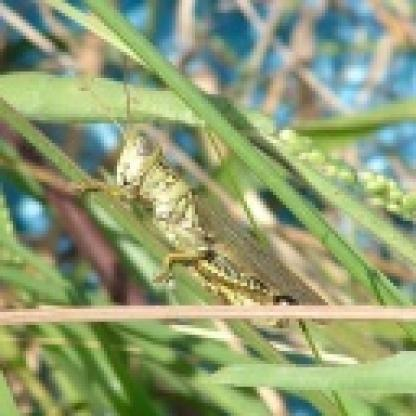grasshopper: (64, 65, 329, 350)
